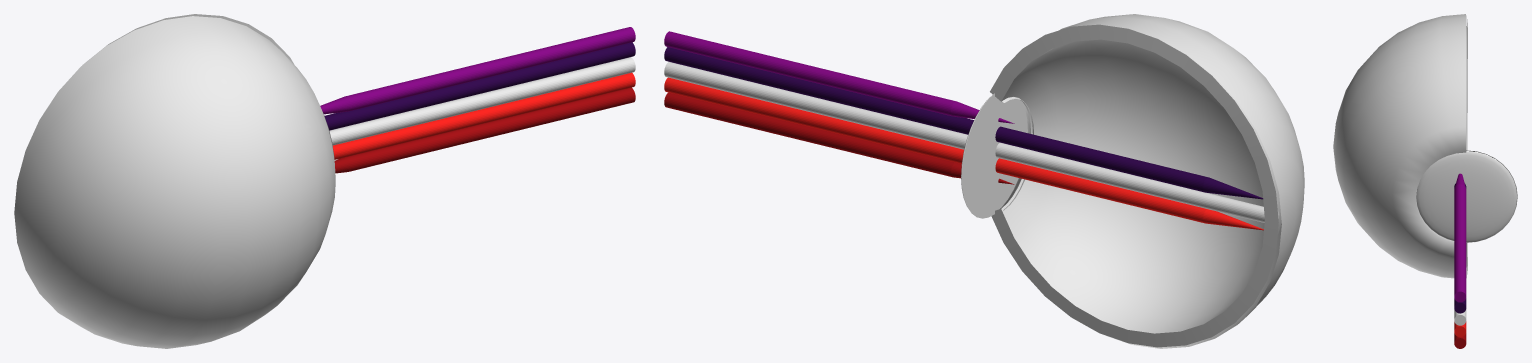
Rendered from Eyemodel.fbx.
The picture shows the model from 3 angles, left to right: view 1: azimuth 30°, elevation 25°; view 2: azimuth 150°, elevation 25°; view 3: azimuth 270°, elevation 25°; orthographic projection. The views are drawn at different scales.
Parts seen in each view (by area): view 1: Eyeball, Cylinder, Cylinder.002, Cylinder.004, Cylinder.003, Cylinder.001, Eyeball.003; view 2: Eyeball.002, Eyeball.003, Eyeball, Cylinder.002, Cylinder.001, Cylinder.003, Cylinder, Cylinder.004, Iris; view 3: Eyeball, Iris, Cylinder, Eyeball.003, Eyeball.002, Cylinder.002, Cylinder.001, Cylinder.004, Cylinder.003.
Part boxes in pixels (left/top/right/bottom): Eyeball: left=14, top=16, right=335, bottom=348; Cylinder: left=320, top=27, right=635, bottom=114; Cylinder.002: left=329, top=57, right=635, bottom=145; Cylinder.004: left=334, top=87, right=635, bottom=173; Cylinder.003: left=333, top=72, right=635, bottom=159; Cylinder.001: left=324, top=42, right=635, bottom=130; Eyeball.003: left=83, top=14, right=294, bottom=64; Eyeball.002: left=1001, top=39, right=1281, bottom=333; Eyeball.003: left=990, top=24, right=1278, bottom=347; Eyeball: left=1000, top=14, right=1304, bottom=348; Cylinder.002: left=664, top=62, right=1279, bottom=222; Cylinder.001: left=664, top=47, right=1263, bottom=199; Cylinder.003: left=664, top=77, right=1263, bottom=230; Cylinder: left=664, top=31, right=1014, bottom=123; Cylinder.004: left=664, top=92, right=1014, bottom=184; Iris: left=961, top=93, right=1027, bottom=218; Eyeball: left=1333, top=14, right=1465, bottom=278; Iris: left=1416, top=150, right=1517, bottom=242; Cylinder: left=1454, top=173, right=1466, bottom=302; Eyeball.003: left=1466, top=15, right=1467, bottom=277; Eyeball.002: left=1466, top=26, right=1467, bottom=267; Cylinder.002: left=1454, top=309, right=1466, bottom=325; Cylinder.001: left=1454, top=183, right=1466, bottom=313; Cylinder.004: left=1454, top=333, right=1466, bottom=348; Cylinder.003: left=1454, top=321, right=1466, bottom=336.
Bounding box in the file's own units: 1232 × 602 × 417.
